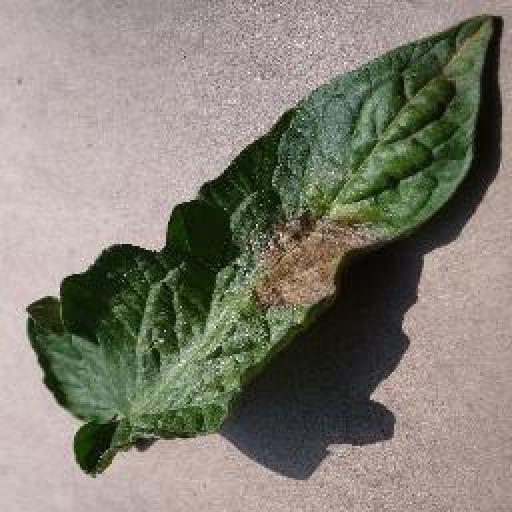Late Blight: (28, 13, 500, 480)
